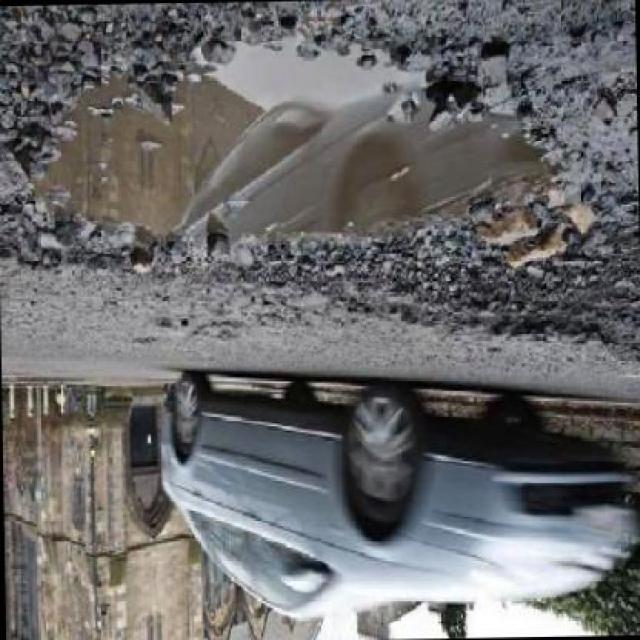pothole1: (2, 23, 576, 311)
